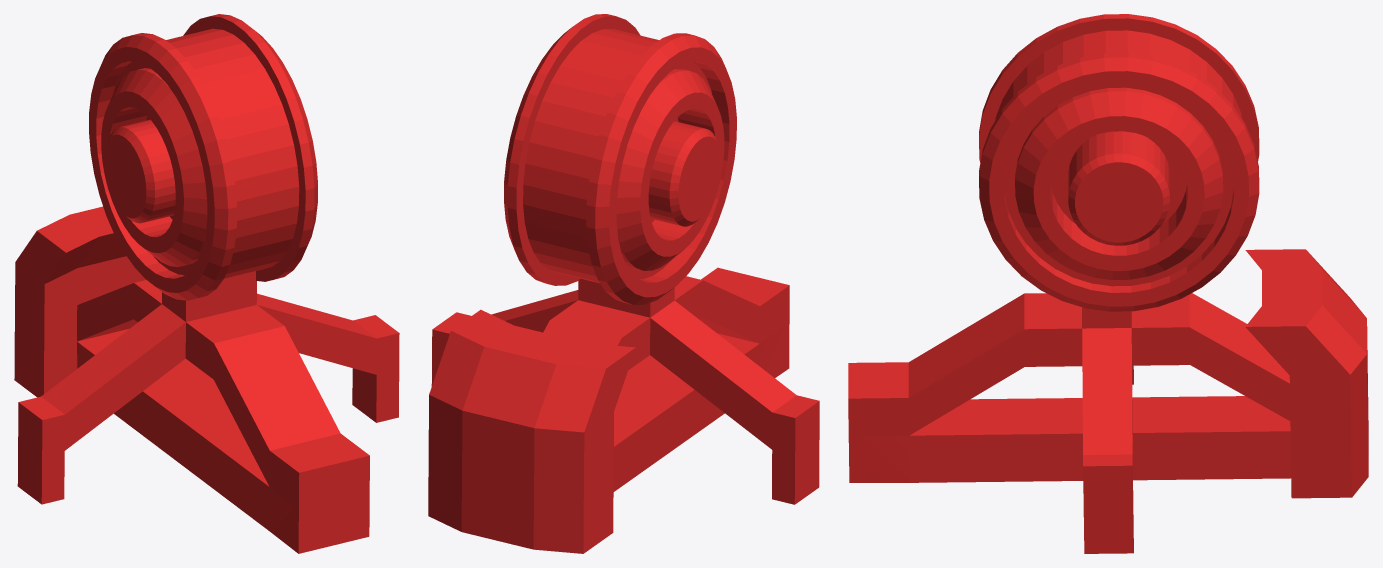
Rendered from pie.obj.
The picture shows the model from 3 angles, left to right: view 1: azimuth 30°, elevation 25°; view 2: azimuth 150°, elevation 25°; view 3: azimuth 270°, elevation 25°; orthographic projection. The views are drawn at different scales.
Parts seen in each view (by area): view 1: gun_droneJoint7Joint1JointJoint11Null_Object5Cylinder9; view 2: gun_droneJoint7Joint1JointJoint11Null_Object5Cylinder9; view 3: gun_droneJoint7Joint1JointJoint11Null_Object5Cylinder9.
Part boxes in pixels (x1=…): gun_droneJoint7Joint1JointJoint11Null_Object5Cylinder9: x1=14, y1=14, x2=399, y2=553; gun_droneJoint7Joint1JointJoint11Null_Object5Cylinder9: x1=428, y1=14, x2=819, y2=553; gun_droneJoint7Joint1JointJoint11Null_Object5Cylinder9: x1=848, y1=14, x2=1368, y2=553.
Size of the model in its own units: 0.8115 by 0.9021 by 0.9913.
